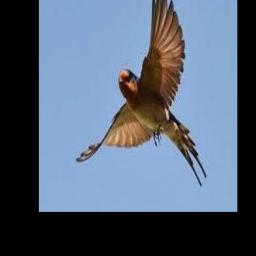Swallow: (75, 0, 206, 187)
